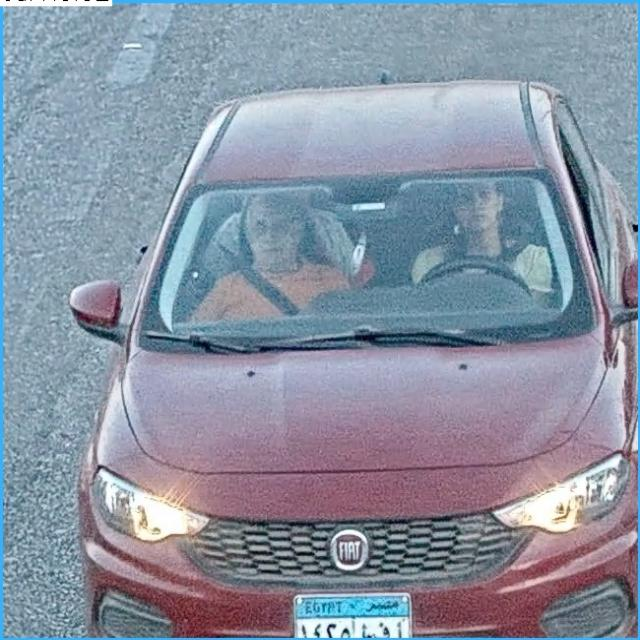windshield: (139, 166, 596, 337)
